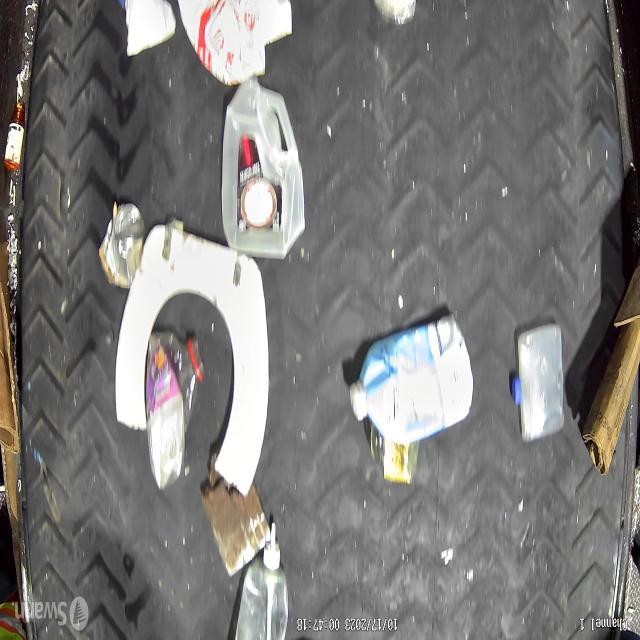can: (98, 198, 144, 288)
milk_jug: (217, 77, 305, 265)
non_white_jug: (351, 317, 471, 442)
plastic_bottle: (146, 330, 206, 488)
